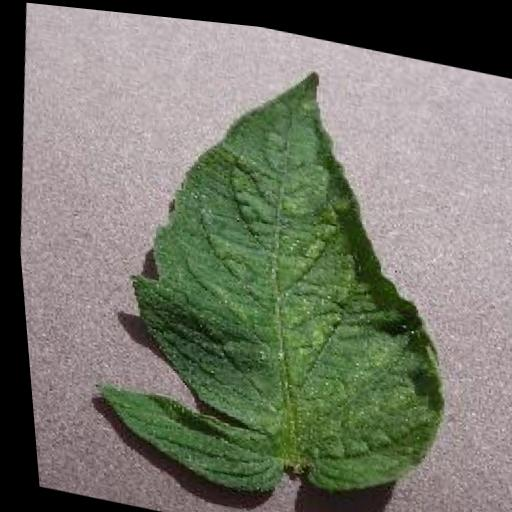Spider Mites: (56, 15, 482, 512)
